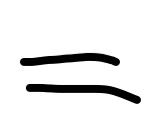eqv: (20, 52, 141, 104)
